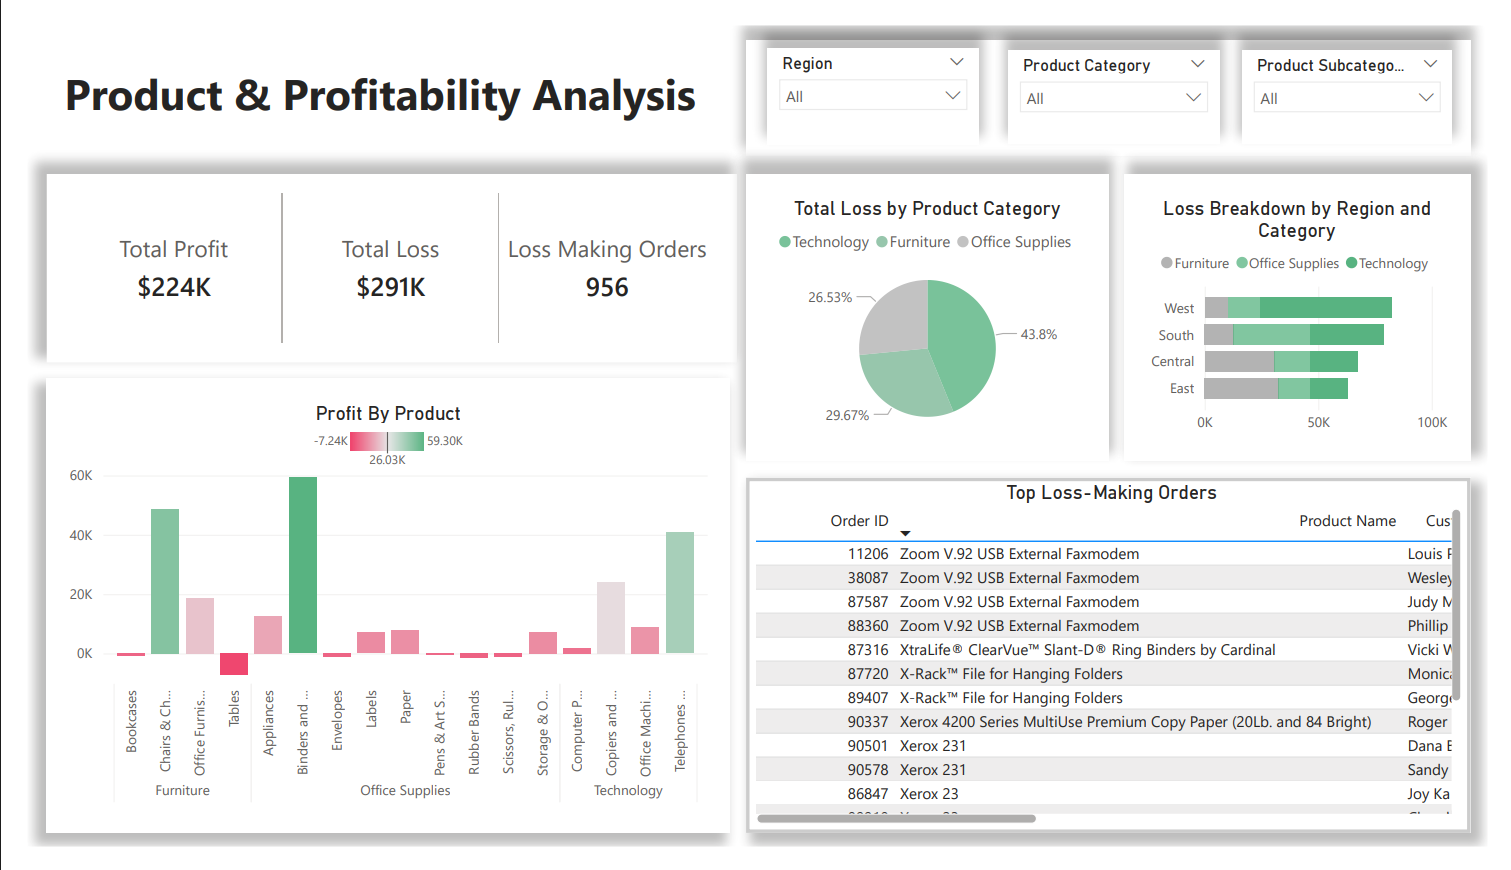

What the dashboard file says about the page in this screenshot:
{"tool":"powerbi","page":{"name":"Product & Profitability Analysis","canvas":[1280,720],"ordinal":1},"visuals":[{"type":"textbox","box":[630.5,13,634.8,102.4],"z":0},{"type":"cardVisual","fields":{"Data":["Orders.Total Profit","Orders.Total Loss","Orders.Loss Making Orders"]},"box":[17,131.2,604.9,165.1],"z":1000},{"type":"slicer","fields":{"Values":["Orders.Region"]},"box":[649.2,20.2,184.7,85.1],"z":2000},{"type":"slicer","fields":{"Values":["Orders.Product Subcategory"]},"box":[1064.8,21.6,184.7,83.7],"z":3000},{"type":"slicer","fields":{"Values":["Orders.Product Category"]},"box":[859.9,21.6,184.7,83.7],"z":4000},{"type":"columnChart","title":"Profit By Product","fields":{"Y":["Sum(Orders.Profit)"],"Category":["Orders.Product Category","Orders.Product Subcategory"]},"box":[17.3,310.2,598.7,398.2],"z":5000},{"type":"barChart","title":"Loss Breakdown by Region and Category\n","fields":{"Category":["Orders.Region"],"Series":["Orders.Product Category"],"Y":["Orders.Total Loss"]},"box":[960.9,131.3,304.4,251],"z":6000},{"type":"pieChart","title":"Total Loss by Product Category","fields":{"Category":["Orders.Product Category"],"Y":["Orders.Total Loss"]},"box":[630.5,131.3,317.4,251],"z":7000},{"type":"tableEx","title":"Top Loss-Making Orders","fields":{"Values":["Orders.Order ID","Orders.Product Name","Orders.Customer Name","Orders.Product Category","Orders.Sales","Orders.Profit","Orders.Discount","Orders.Returned"]},"box":[630.5,396.8,634.8,311.6],"z":8000},{"type":"textbox","box":[7.2,13,608.8,102.4],"z":9000}]}

Visuals, with their boxes in screenshot pixels (x1, y1, x2, y2), scaled from the page's 1280x720 canvas onto the 1511x870 screenshot:
textbox: {"left": 744, "top": 16, "right": 1494, "bottom": 139}
cardVisual - Orders.Total Profit x Orders.Total Loss: {"left": 20, "top": 159, "right": 734, "bottom": 358}
slicer - Orders.Region: {"left": 766, "top": 24, "right": 984, "bottom": 127}
slicer - Orders.Product Subcategory: {"left": 1257, "top": 26, "right": 1475, "bottom": 127}
slicer - Orders.Product Category: {"left": 1015, "top": 26, "right": 1233, "bottom": 127}
"Profit By Product" columnChart: {"left": 20, "top": 375, "right": 727, "bottom": 856}
"Loss Breakdown by Region and Category
" barChart: {"left": 1134, "top": 159, "right": 1494, "bottom": 462}
"Total Loss by Product Category" pieChart: {"left": 744, "top": 159, "right": 1119, "bottom": 462}
"Top Loss-Making Orders" tableEx: {"left": 744, "top": 479, "right": 1494, "bottom": 856}
textbox: {"left": 8, "top": 16, "right": 727, "bottom": 139}
